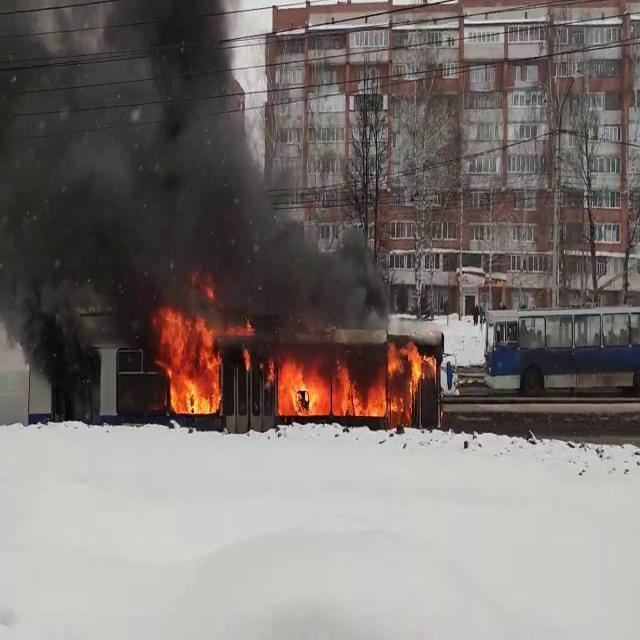Fire: (268, 336, 438, 424), (150, 298, 227, 418)
Smoke: (0, 0, 389, 349)
